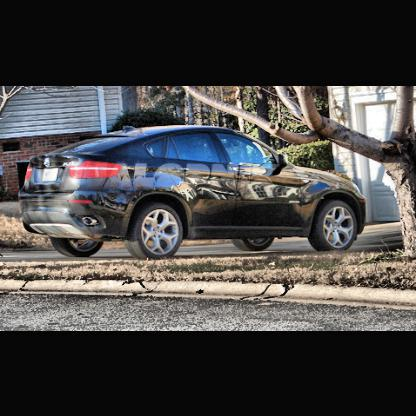BMW X6 SUV 2012: (21, 124, 370, 263)
